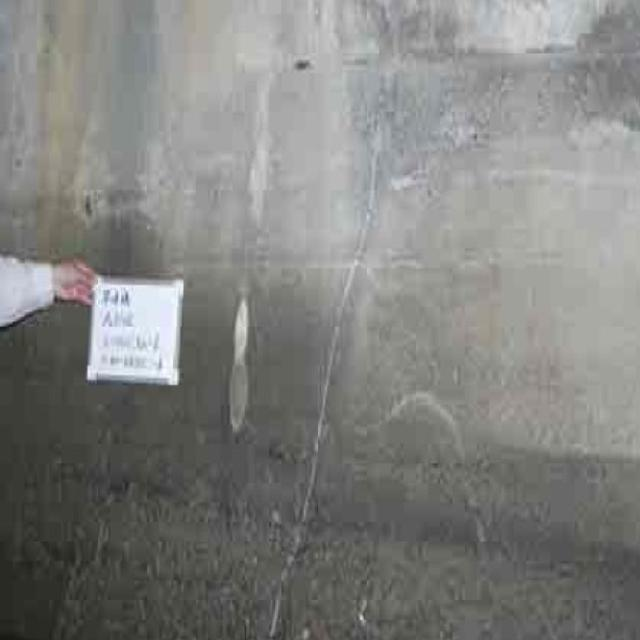freelime: (221, 287, 263, 447)
